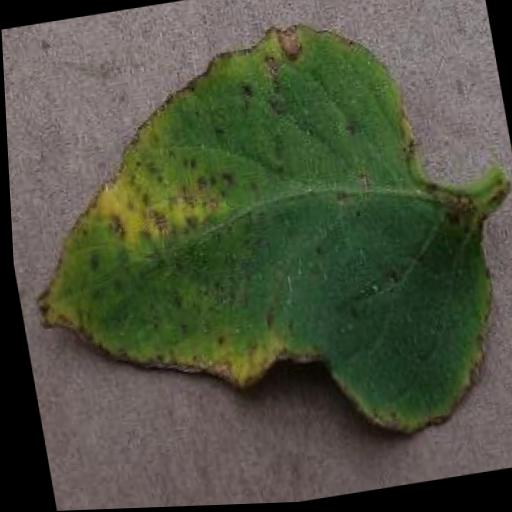Bacterial Spot: (1, 0, 512, 499)
